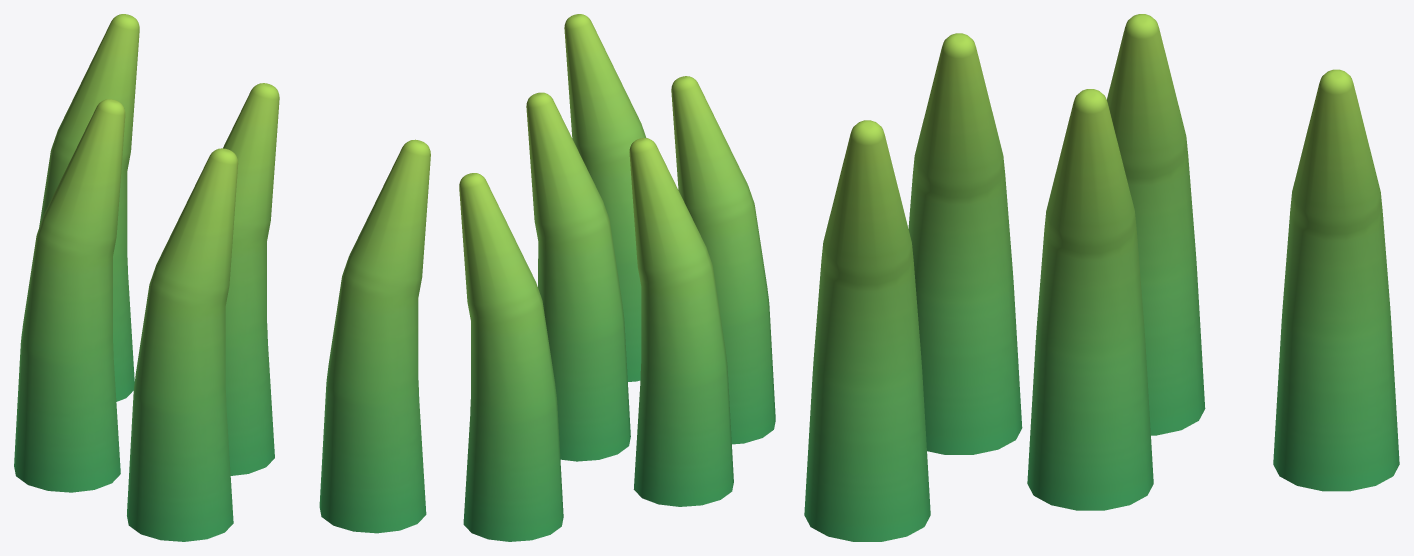
File: grass.fbx
The picture shows the model from 3 angles, left to right: view 1: azimuth 30°, elevation 25°; view 2: azimuth 150°, elevation 25°; view 3: azimuth 270°, elevation 25°; orthographic projection. The views are drawn at different scales.
Visible parts, largest first — view 1: Cylinder.062; view 2: Cylinder.062; view 3: Cylinder.062.
Part boxes in pixels (bbox=[...]): Cylinder.062: bbox=[14, 14, 430, 541]; Cylinder.062: bbox=[459, 14, 775, 541]; Cylinder.062: bbox=[804, 14, 1399, 541].
Size of the model in its own units: 2.26 by 2.69 by 3.47.
